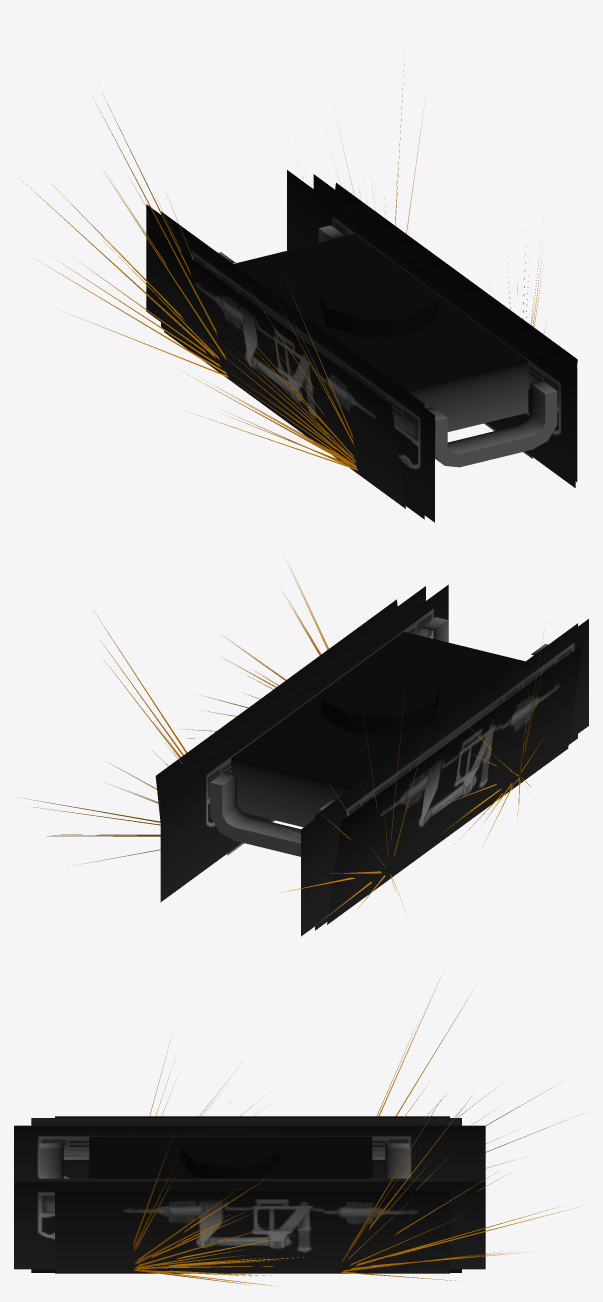
Rendered from H2000_TRACK_N.glb.
3 views of the same model, one above another, from view 1: azimuth 30°, elevation 25°; view 2: azimuth 150°, elevation 25°; view 3: azimuth 270°, elevation 25° (orthographic). The views are drawn at different scales.
Visible parts, largest first — view 1: trackbase, Fire0_R_0, Fire1_R_1; view 2: trackbase, Fire1_L_0, Fire0_R_0, Fire1_R_1; view 3: trackbase, Fire0_L_0, Fire1_L_1, Fire0_L_1, Fire1_R_0.
Boxes of the visible parts, bbox=[...] form: trackbase: bbox=[146, 170, 577, 522]; Fire0_R_0: bbox=[180, 279, 357, 470]; Fire1_R_1: bbox=[19, 85, 228, 377]; trackbase: bbox=[155, 584, 588, 936]; Fire1_L_0: bbox=[29, 616, 186, 863]; Fire0_R_0: bbox=[443, 728, 530, 845]; Fire1_R_1: bbox=[283, 696, 404, 922]; trackbase: bbox=[14, 1116, 485, 1273]; Fire0_L_0: bbox=[133, 1146, 308, 1286]; Fire1_L_1: bbox=[341, 1098, 573, 1281]; Fire0_L_1: bbox=[133, 1142, 308, 1285]; Fire1_R_0: bbox=[377, 977, 562, 1168].
Size of the model in its own units: 9.19 by 6.14 by 14.92.
14 materials, 5 textured.
